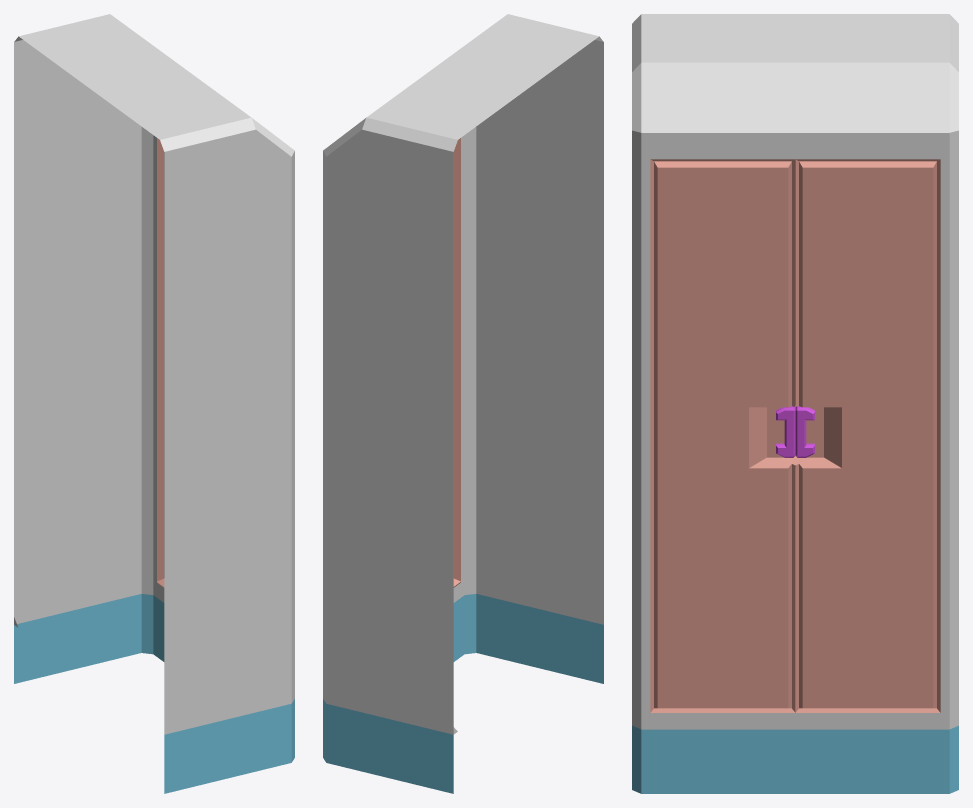
Rendered from SM_Locker.fbx.
3 renders of one model, left to right at view 1: azimuth 30°, elevation 25°; view 2: azimuth 150°, elevation 25°; view 3: azimuth 270°, elevation 25°, orthographic. The views are drawn at different scales.
Visible parts, largest first — view 1: Cube.012; view 2: Cube.012; view 3: Cube.012.
Part boxes in pixels (<box>): Cube.012: <box>14,14,294,793</box>; Cube.012: <box>323,14,603,793</box>; Cube.012: <box>632,14,958,793</box>.
Size of the model in its own units: 43.33 by 195 by 81.54.
